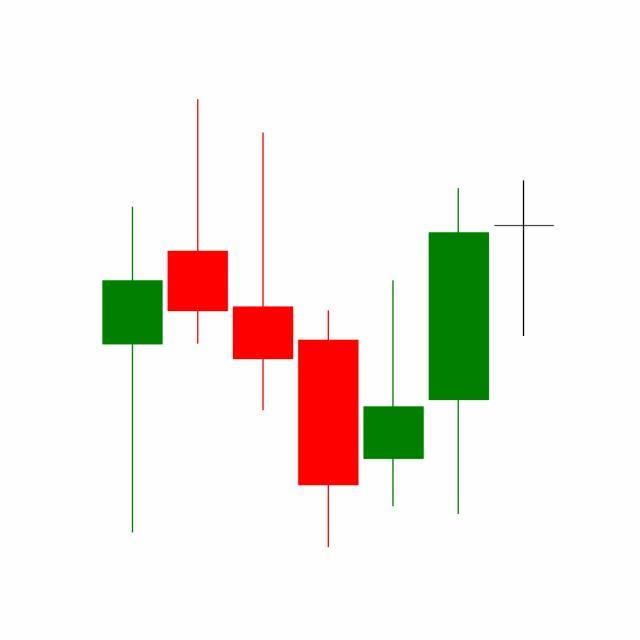Three Inside Up-Down: (295, 184, 492, 549)
